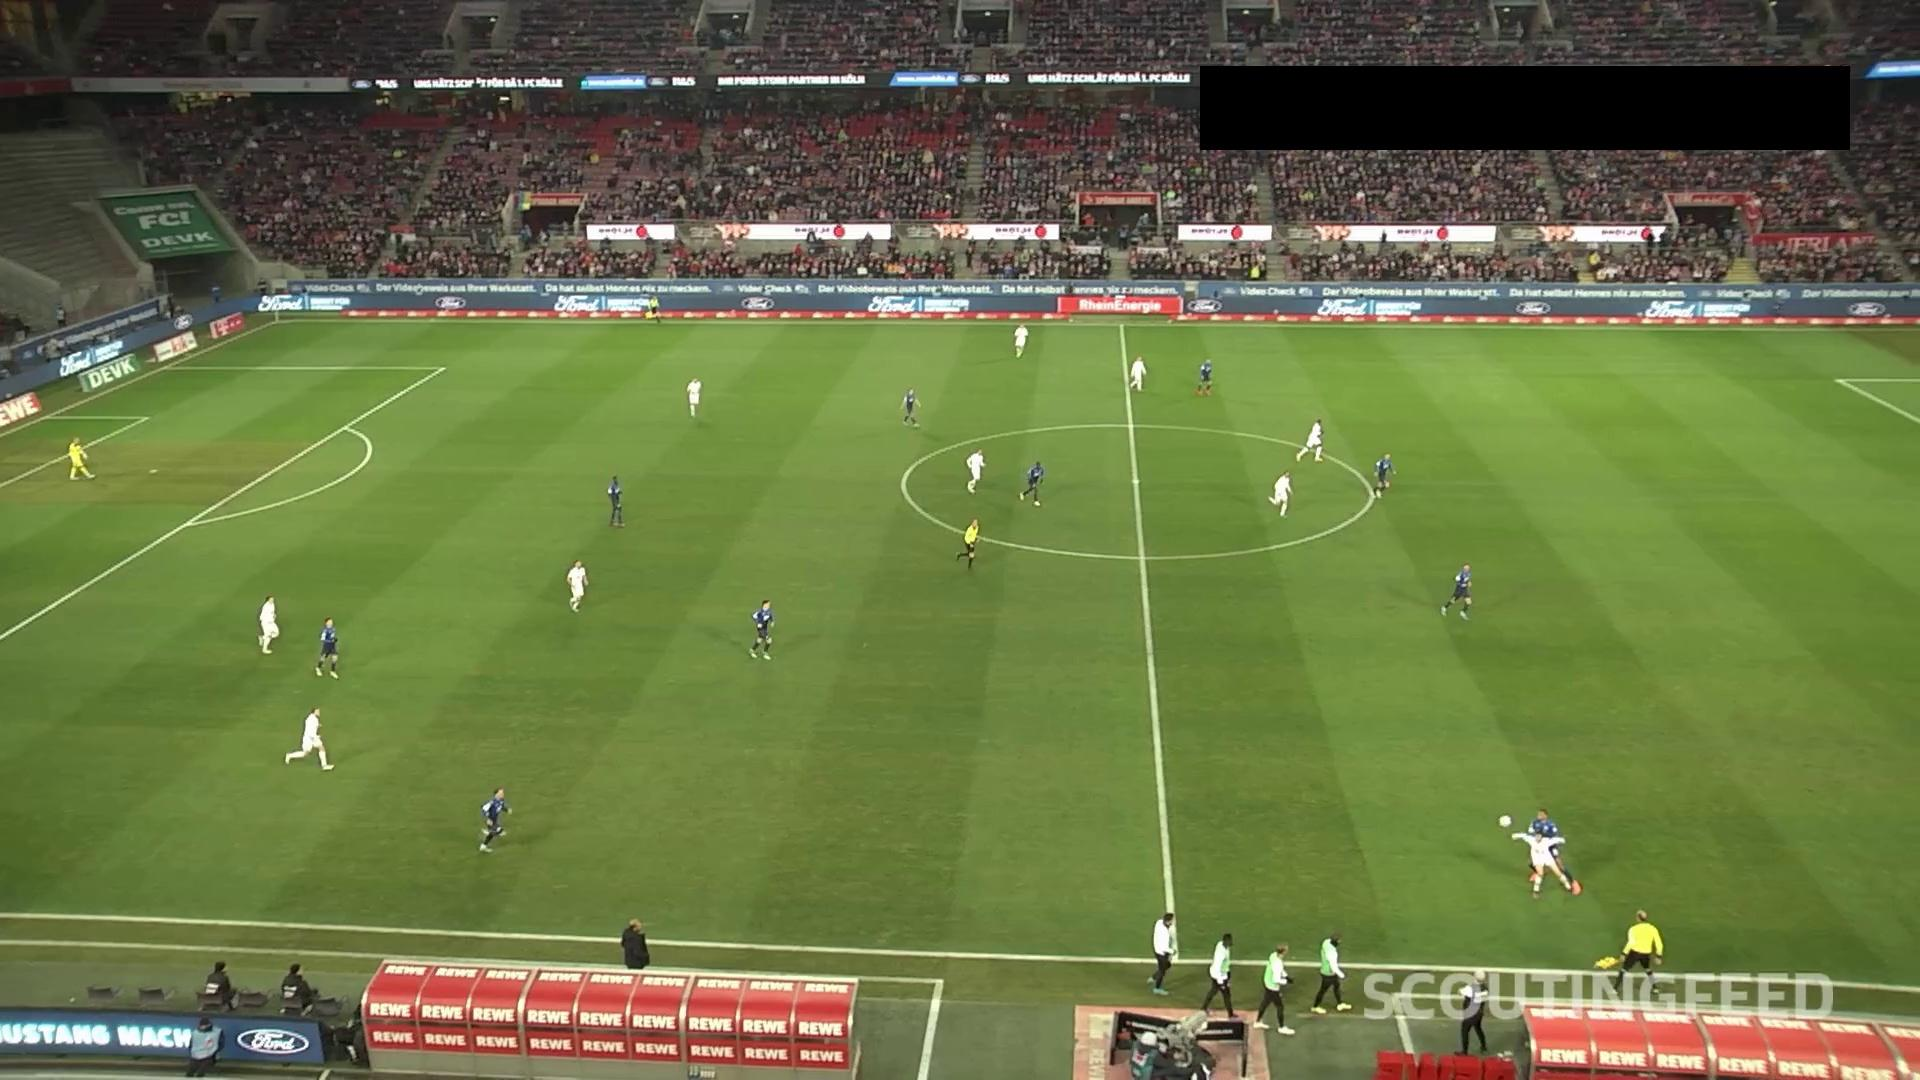Location-of-ball: (1487, 802, 1520, 840)
